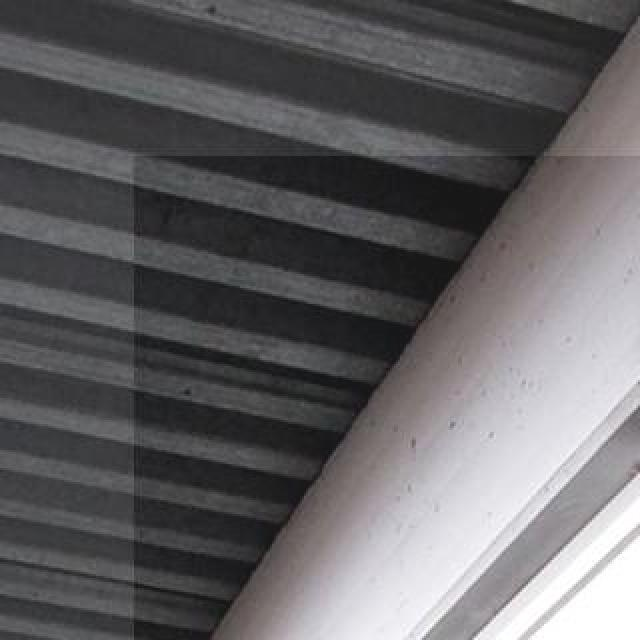fluorescent tube: (132, 160, 640, 640)
